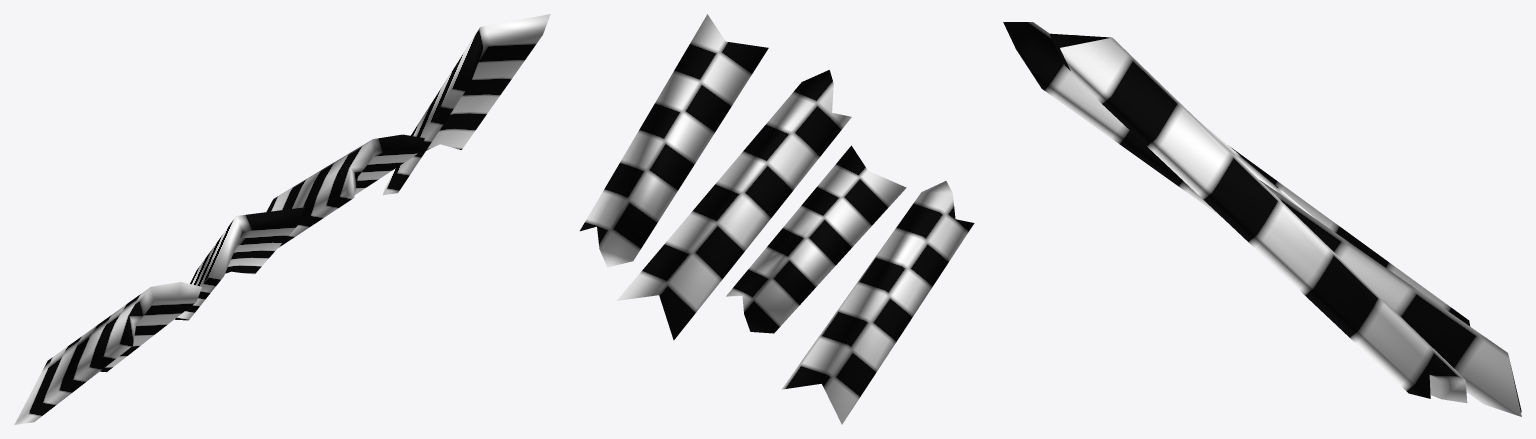
File: initqu31.dae
3 renders of one model, left to right at view 1: azimuth 30°, elevation 25°; view 2: azimuth 150°, elevation 25°; view 3: azimuth 270°, elevation 25°, orthographic. The views are drawn at different scales.
Parts seen in each view (by area): view 1: item; view 2: item; view 3: item.
Boxes of the visible parts, left/top/right/bottom form: item: left=14, top=14, right=550, bottom=424; item: left=580, top=14, right=974, bottom=424; item: left=1003, top=22, right=1521, bottom=416.
Size of the model in its own units: 1.76 by 1.3 by 1.54.
Materials: 1 (1 with a texture image).
